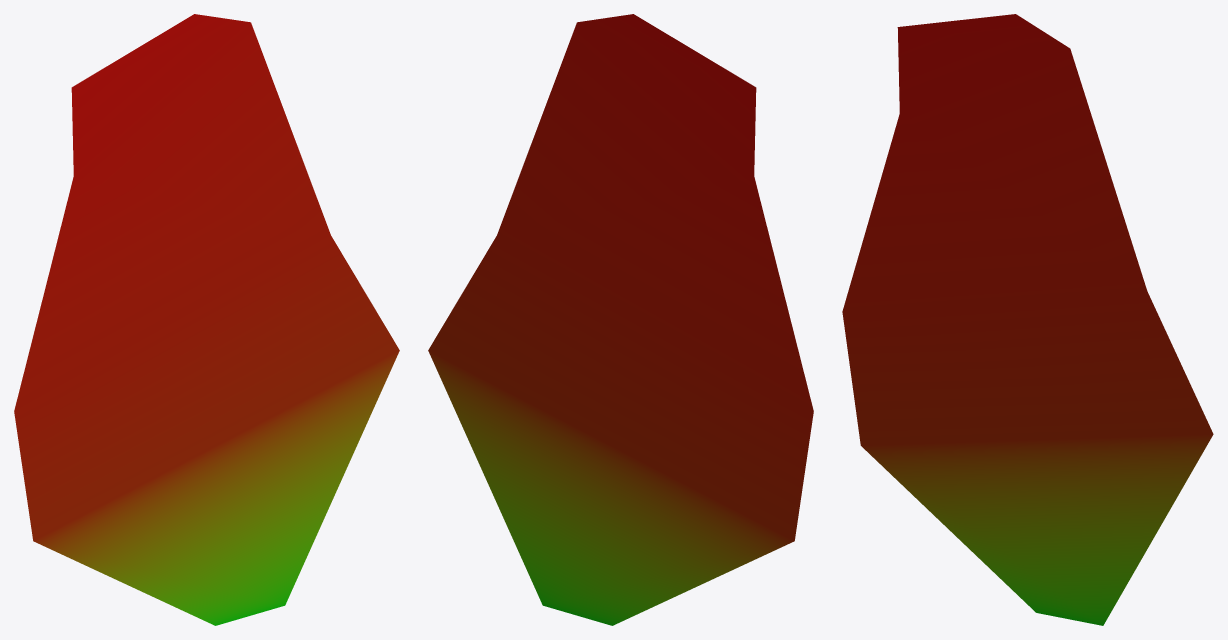
The model's file is Goldenrods_LOD7_Var5.fbx.
3 renders of one model, left to right at view 1: azimuth 30°, elevation 25°; view 2: azimuth 150°, elevation 25°; view 3: azimuth 330°, elevation 25°, orthographic. The views are drawn at different scales.
Parts seen in each view (by area): view 1: _gw5x_Var5_LOD7; view 2: _gw5x_Var5_LOD7; view 3: _gw5x_Var5_LOD7.
Boxes of the visible parts, box(x1,y1,x2,y2) form: _gw5x_Var5_LOD7: box(14, 14, 399, 625); _gw5x_Var5_LOD7: box(428, 14, 813, 625); _gw5x_Var5_LOD7: box(842, 14, 1213, 625).
Bounding box in the file's own units: 65.22 × 99.72 × 4.36e-06.
